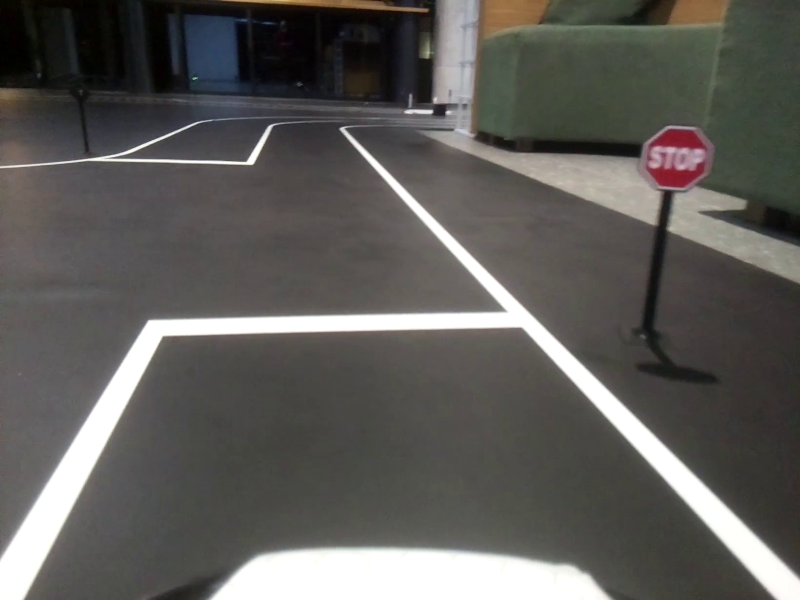stop: (643, 126, 711, 191)
